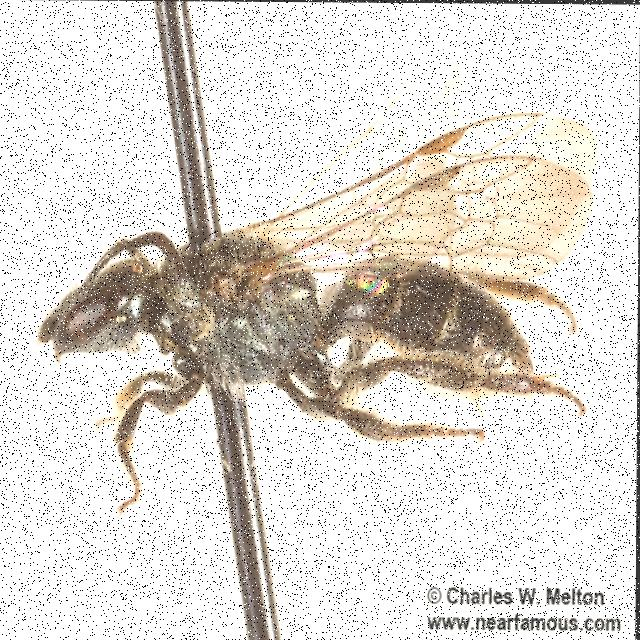Lasioglossum: (30, 30, 614, 516)
